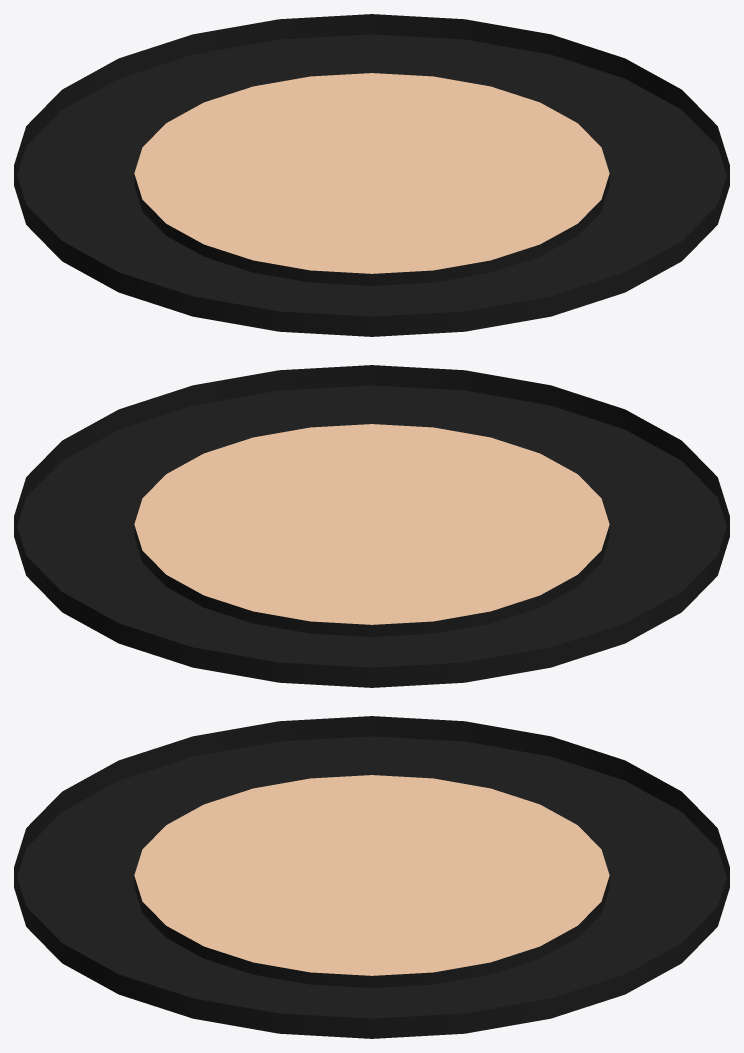
Rendered from down light 1.fbx.
The picture shows the model from 3 angles, top to bottom: view 1: azimuth 30°, elevation 25°; view 2: azimuth 150°, elevation 25°; view 3: azimuth 270°, elevation 25°; orthographic projection.
Parts seen in each view (by area): view 1: down light 1; view 2: down light 1; view 3: down light 1.
Part boxes in pixels (box(x1,y1,x2,y2)): down light 1: box(14, 14, 729, 336); down light 1: box(14, 365, 729, 687); down light 1: box(14, 716, 729, 1038).
Size of the model in its own units: 0.16 by 0.16 by 0.005.
